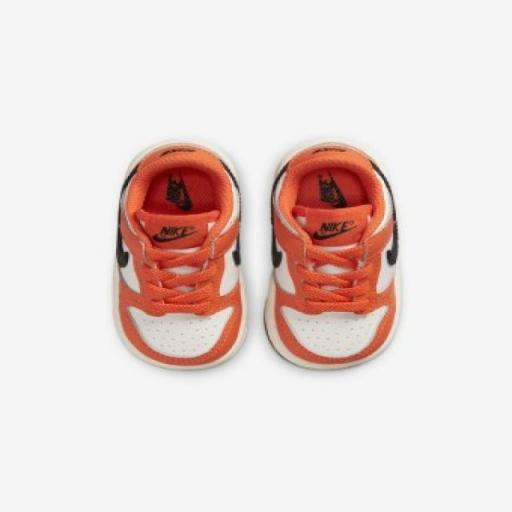Nike: (154, 234, 188, 244), (322, 220, 350, 232)
